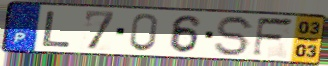0: (128, 13, 160, 53)
6: (168, 13, 203, 54)
7: (83, 9, 118, 52)
F: (250, 16, 296, 59)
L: (40, 10, 73, 49)
S: (213, 15, 257, 58)
